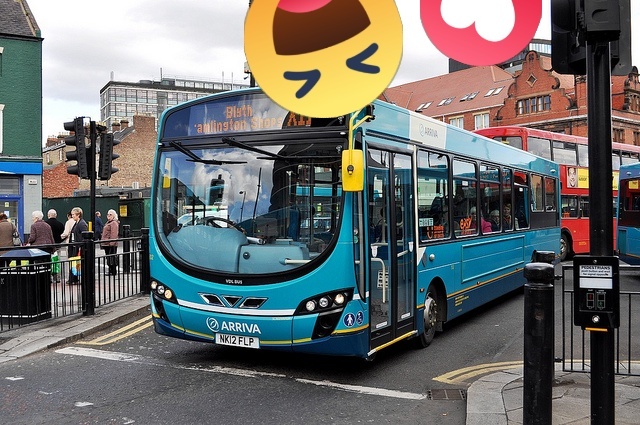haha: (244, 0, 403, 118)
love: (420, 0, 542, 66)
